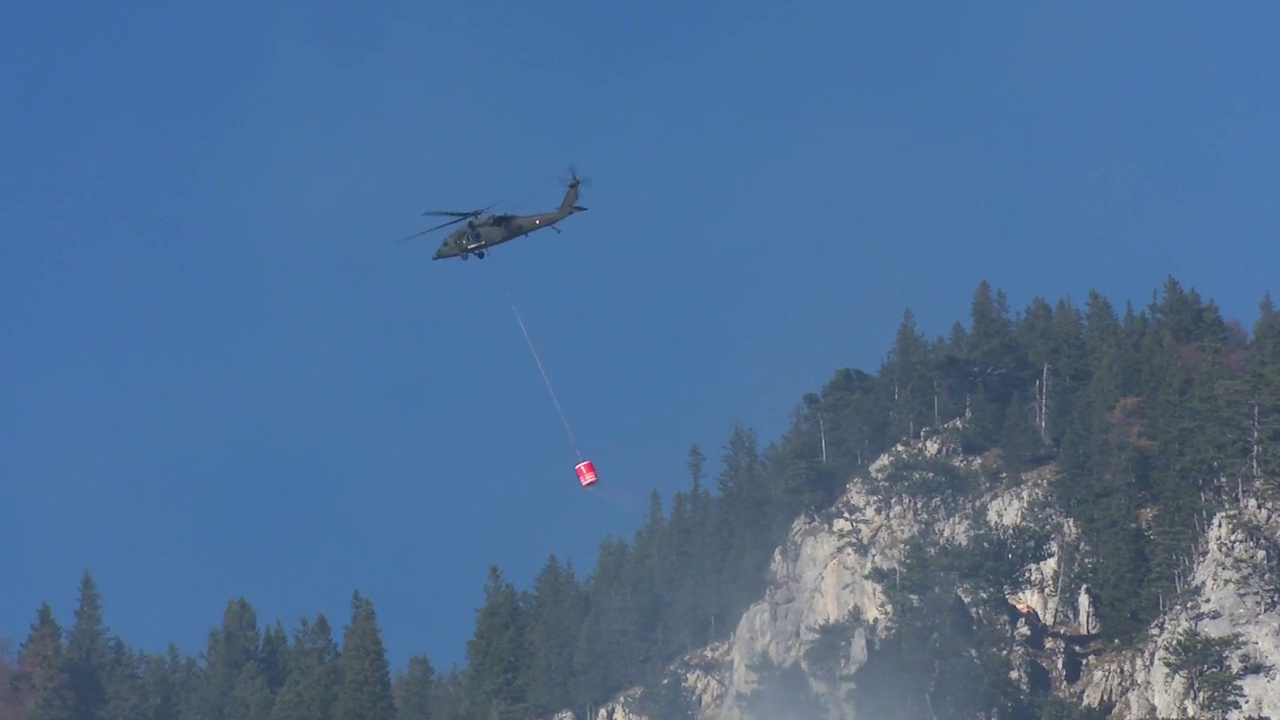heli: (402, 164, 591, 260)
